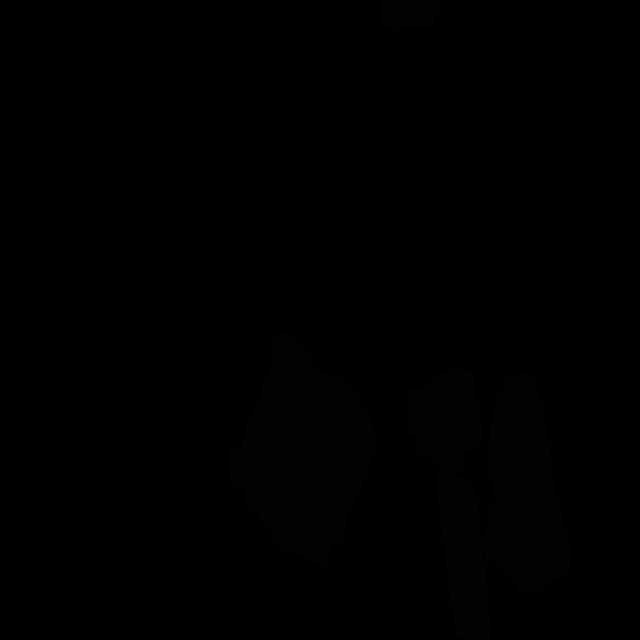cardboard: (226, 332, 378, 566), (482, 373, 573, 594), (435, 471, 492, 640), (406, 365, 484, 474), (378, 0, 440, 32)
